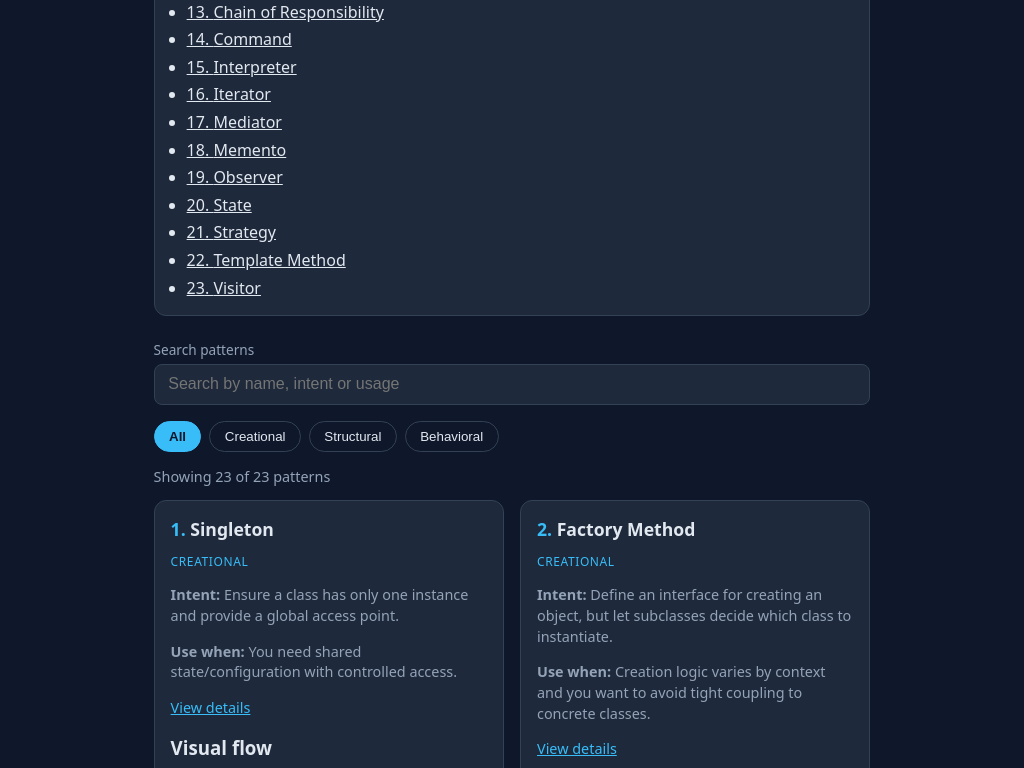
IndexPage › scenario: an engineer looks for a pattern › shows the empty state and recovers via "Clear filters"
The width and height of the screenshot is (1024, 768).
(page scrolled)
Type "graphql" into the search field labelled "Search patterns". click: (512, 384)
box: [154,364,870,405]
(page scrolled)
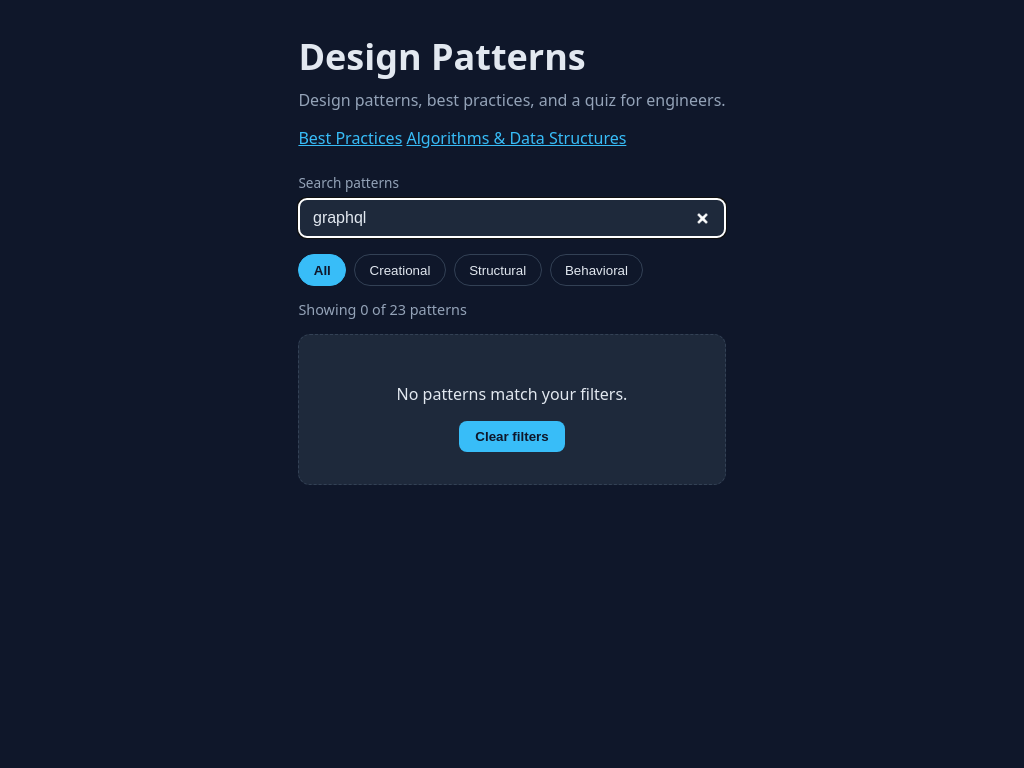
Expected: the text "No patterns match your filters." is shown, [397,382,627,404]
Expected: the message reads "Showing 0 of 23 patterns", [298,300,467,319]
Click the button "Clear filters". click: click(512, 436)
box: [459,420,565,452]
(page scrolled)
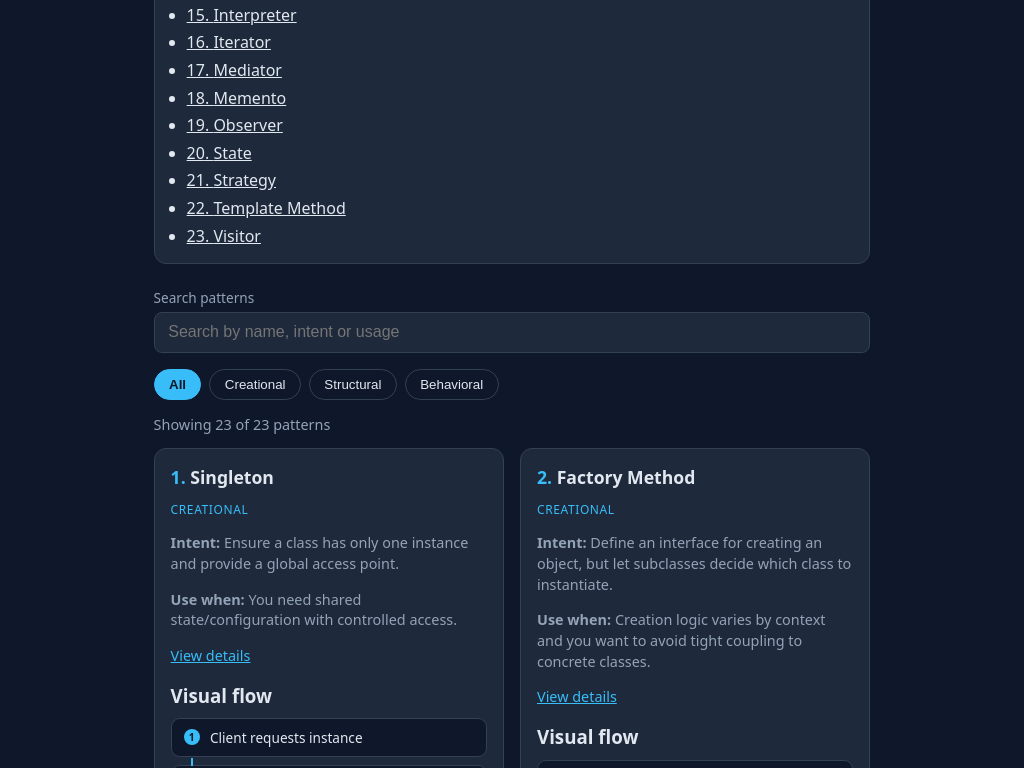
Expected: the search field labelled "Search patterns" is empty, [154,312,870,353]
